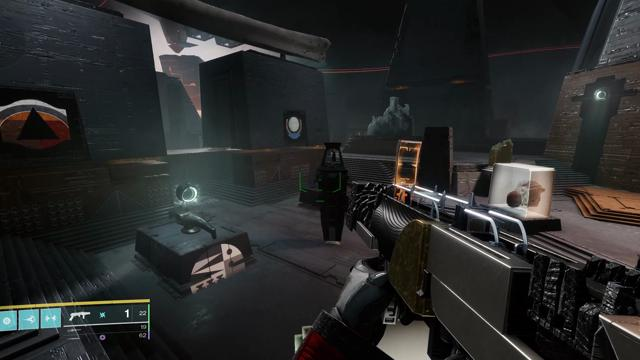pyramid: (0, 99, 72, 150)
traveler: (286, 116, 302, 139)
